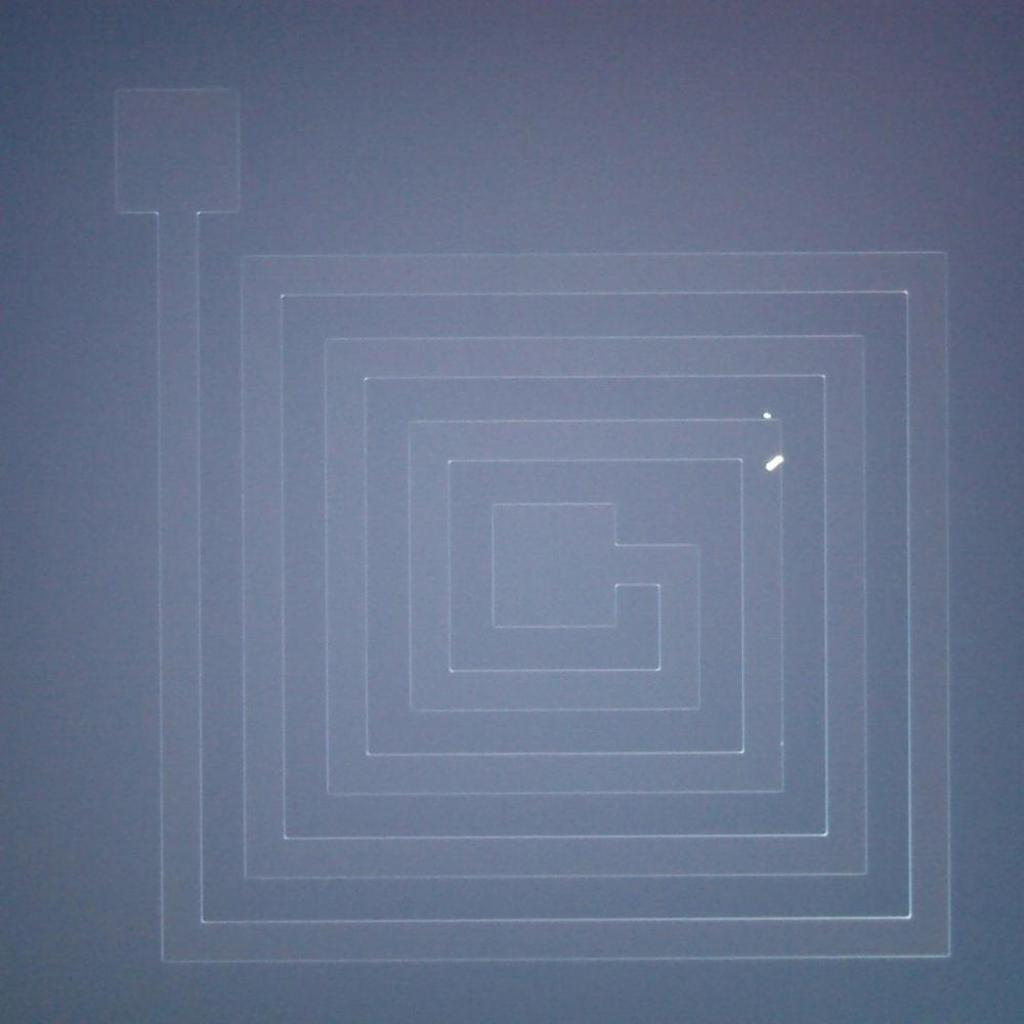dot: (766, 456, 780, 468), (764, 412, 770, 418)
